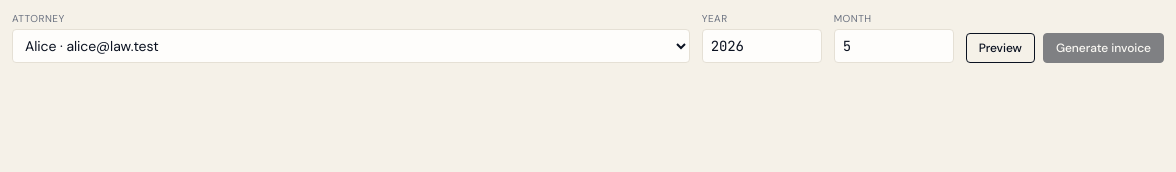
Test: AdminInvoicePanel — preview flow › renders eligible cases + total + ENABLES Generate after Preview
Click the button "Preview" at (1000, 48), box 966,33 -> 1035,63
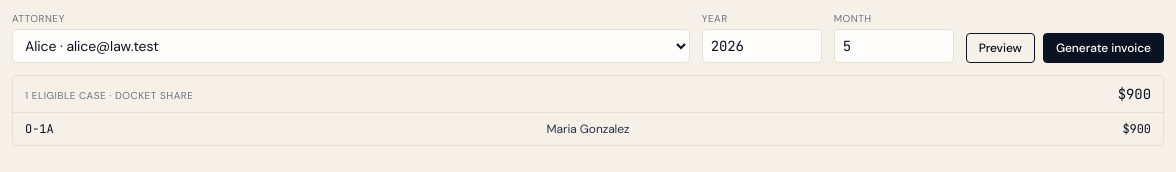
Check: the text "1 eligible case · Docket share" is shown, box 25,88 -> 193,103
Check: the text "O-1A" is shown, box 25,121 -> 54,137
Check: the text "Maria Gonzalez" is shown, box 547,121 -> 629,137
